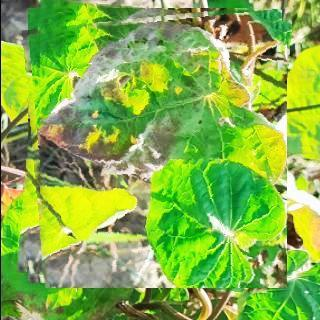curl: (21, 3, 286, 288)
